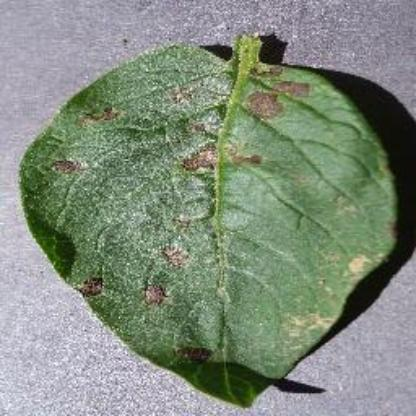Early-Blight: (19, 20, 402, 404)
